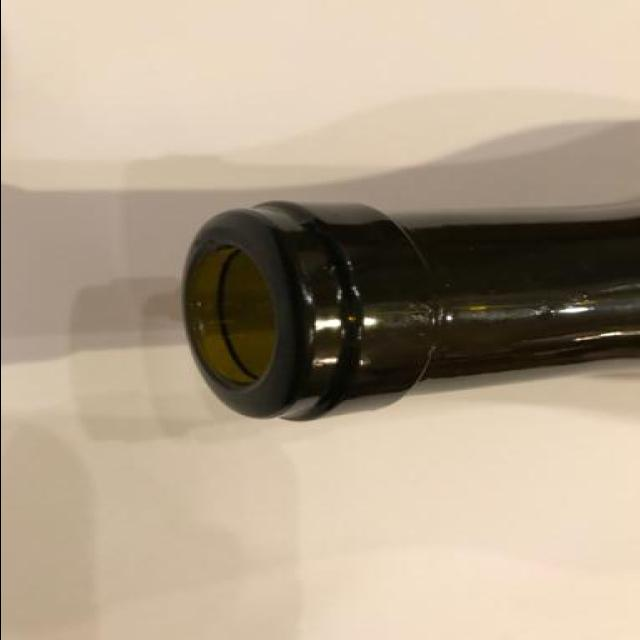litter: (165, 198, 640, 422)
